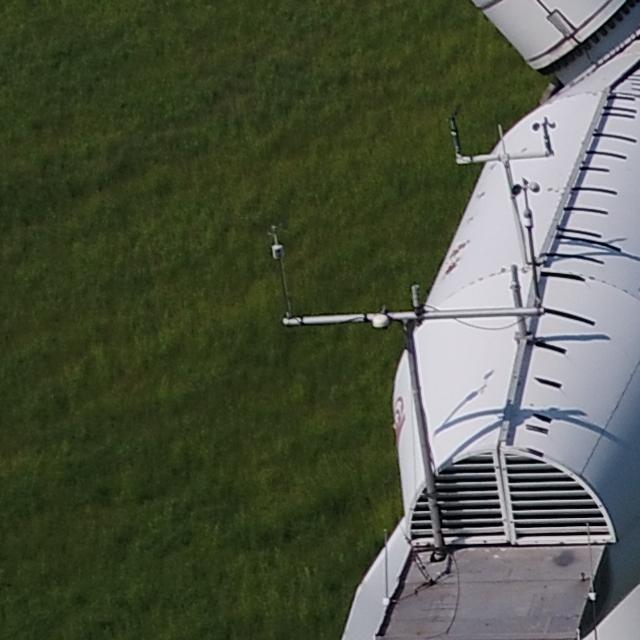damage: (446, 238, 475, 259), (444, 260, 459, 277), (475, 186, 487, 200), (462, 215, 475, 224)
